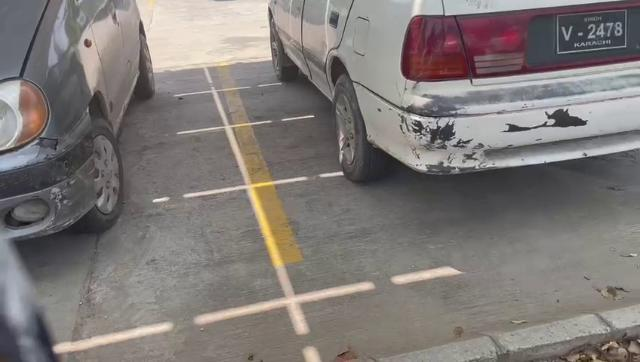plate: (552, 6, 628, 54)
